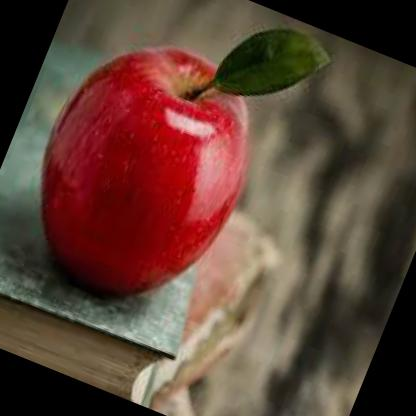apple: (7, 1, 338, 342)
